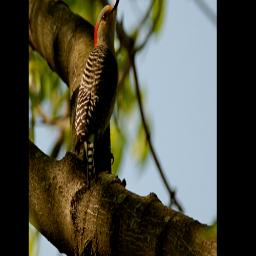Woodpecker: (75, 0, 123, 189)
